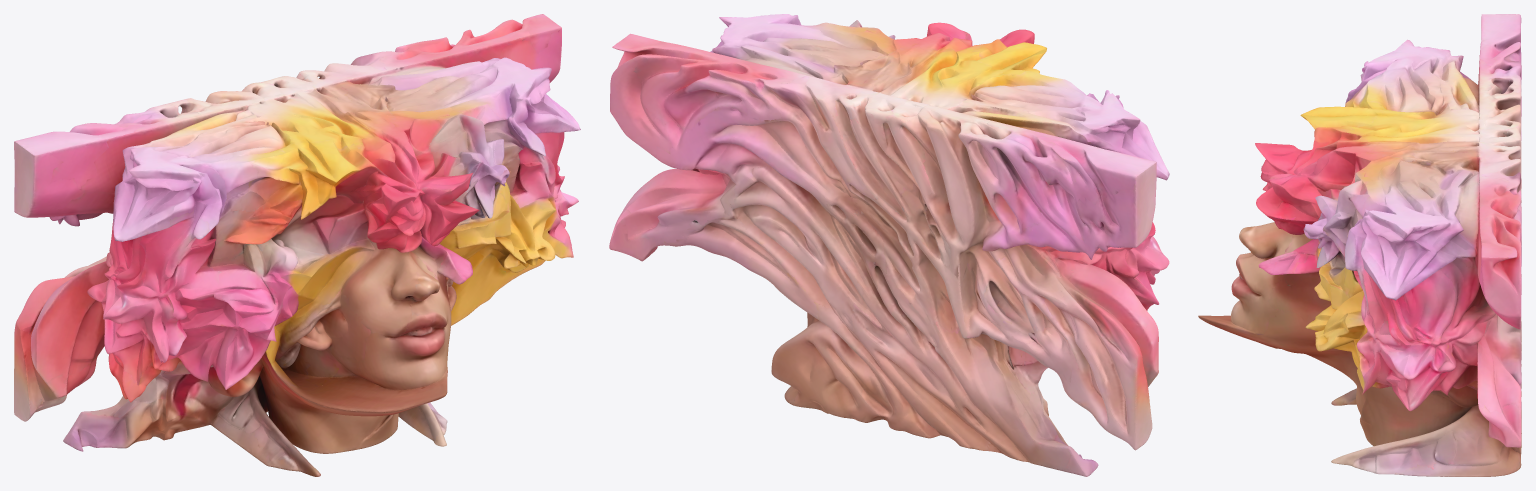
Rendered from fire.glb.
The picture shows the model from 3 angles, left to right: view 1: azimuth 30°, elevation 25°; view 2: azimuth 150°, elevation 25°; view 3: azimuth 270°, elevation 25°; orthographic projection. The views are drawn at different scales.
Parts seen in each view (by area): view 1: model; view 2: model; view 3: model.
Boxes of the visible parts, x1=… form: model: x1=14, y1=14, x2=580, y2=476; model: x1=609, y1=14, x2=1169, y2=476; model: x1=1198, y1=14, x2=1521, y2=476.
Size of the model in its own units: 1.23 by 0.7001 by 0.6915.
Materials: 1 (1 with a texture image).
